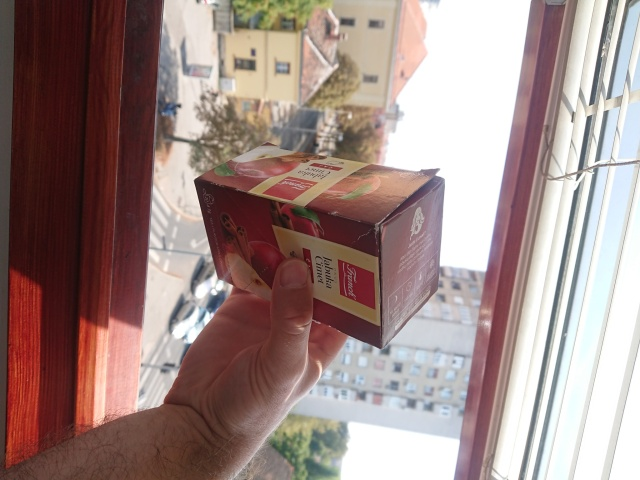Franck Apple Cinnamon Tea 60g: (192, 139, 447, 352)
